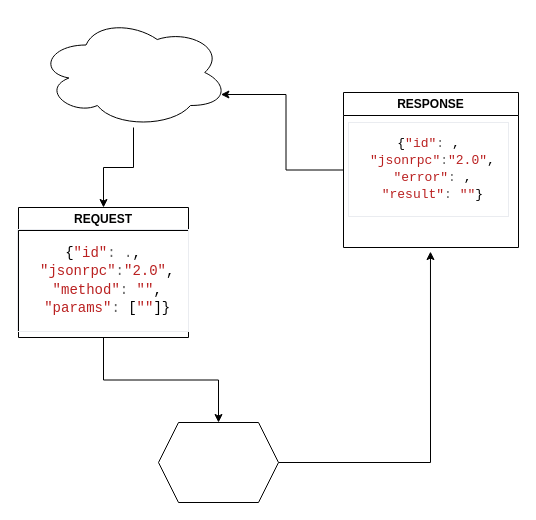
Image size: 536x520. Some labels were removed from this diagram. The shapes that lost their labels are listed below. From the top down, each one's centre as x and y in pixels, then its label:
At (133,72): "BROWSER".
At (218,462): "SERVER".
